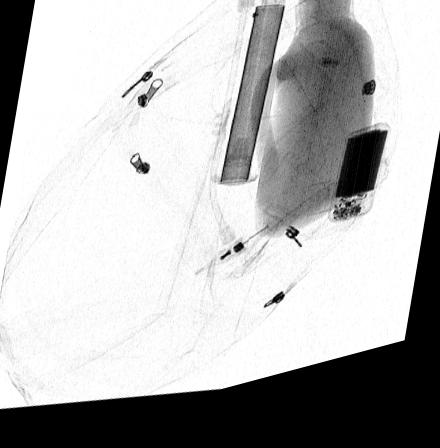Powerbank: (325, 141, 391, 242)
